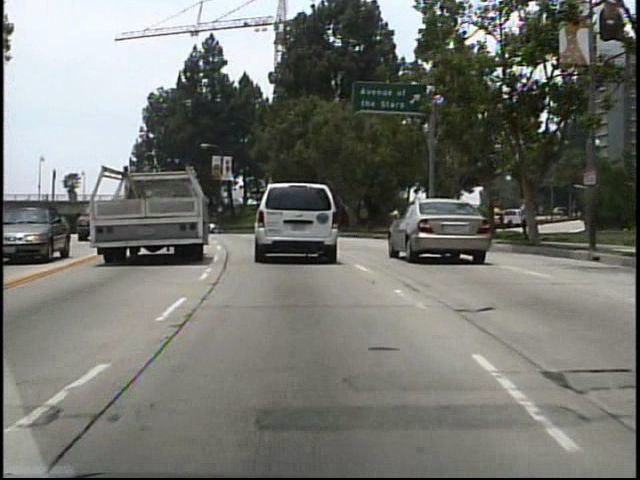person: (516, 192, 539, 244)
